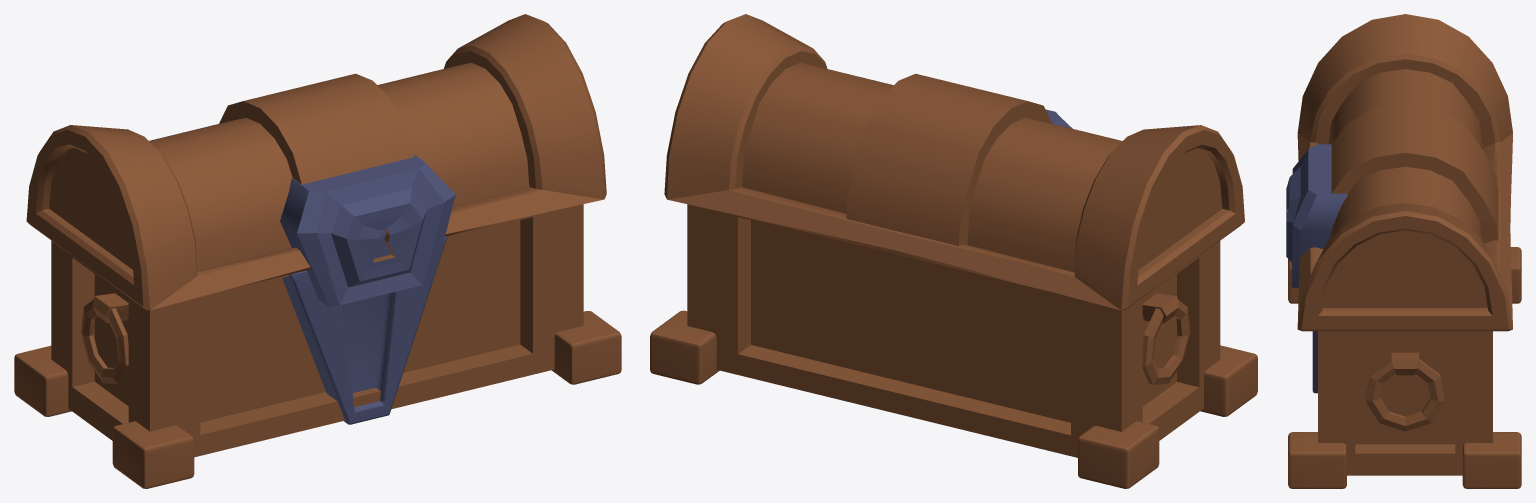
Rendered from LifelessChest.fbx.
3 views of the same model, side by side, from view 1: azimuth 30°, elevation 25°; view 2: azimuth 150°, elevation 25°; view 3: azimuth 270°, elevation 25° (orthographic). The views are drawn at different scales.
Parts seen in each view (by area): view 1: pCylinder2, pCube1, pCube7, pCube6, pTorus1; view 2: pCylinder2, pCube1, pCube6, pTorus1; view 3: pCylinder2, pCube1, pCube6, pTorus1, pCube7.
Boxes of the visible parts, x1,y1,x2,y2 form: pCylinder2: [26, 14, 606, 310]; pCube1: [51, 204, 583, 457]; pCube7: [282, 236, 446, 424]; pCube6: [14, 311, 621, 488]; pTorus1: [81, 293, 128, 384]; pCylinder2: [664, 14, 1244, 310]; pCube1: [687, 204, 1220, 457]; pCube6: [650, 310, 1257, 488]; pTorus1: [1142, 293, 1190, 384]; pCylinder2: [1286, 14, 1512, 331]; pCube1: [1318, 331, 1492, 475]; pCube6: [1288, 247, 1521, 488]; pTorus1: [1365, 352, 1445, 431]; pCube7: [1312, 331, 1317, 393].
Bounding box in the file's own units: 116 × 71.21 × 55.46.
